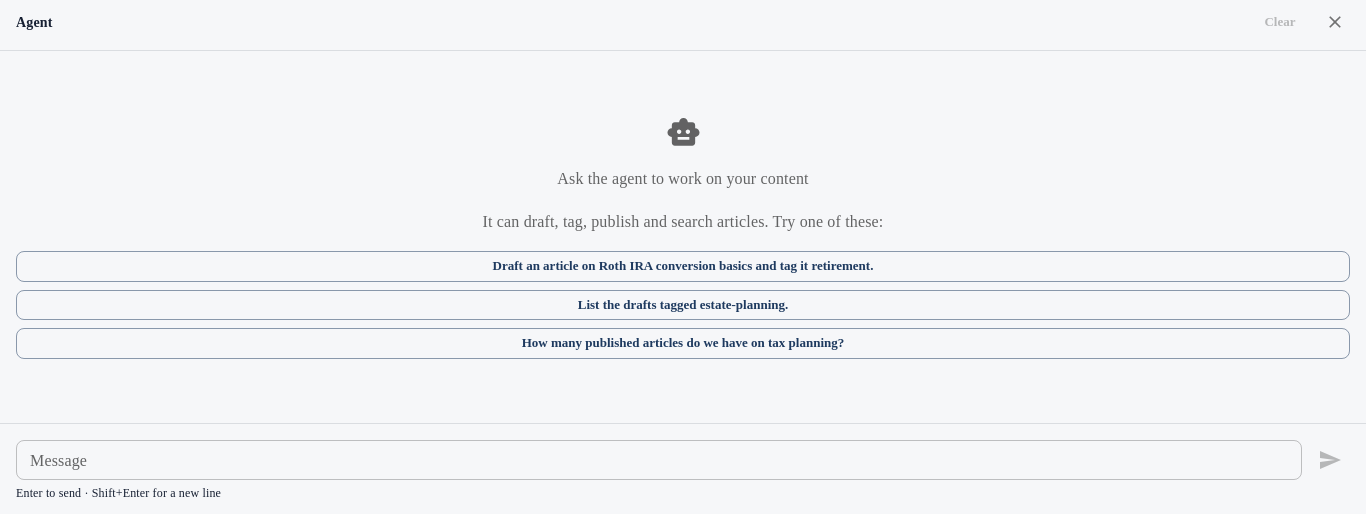
Test: AgentPanel › an `error` event renders an inline error alert
The width and height of the screenshot is (1366, 514).
In the text box labelled "Message": x=659, y=460 [30, 449, 1288, 472], type "Q"
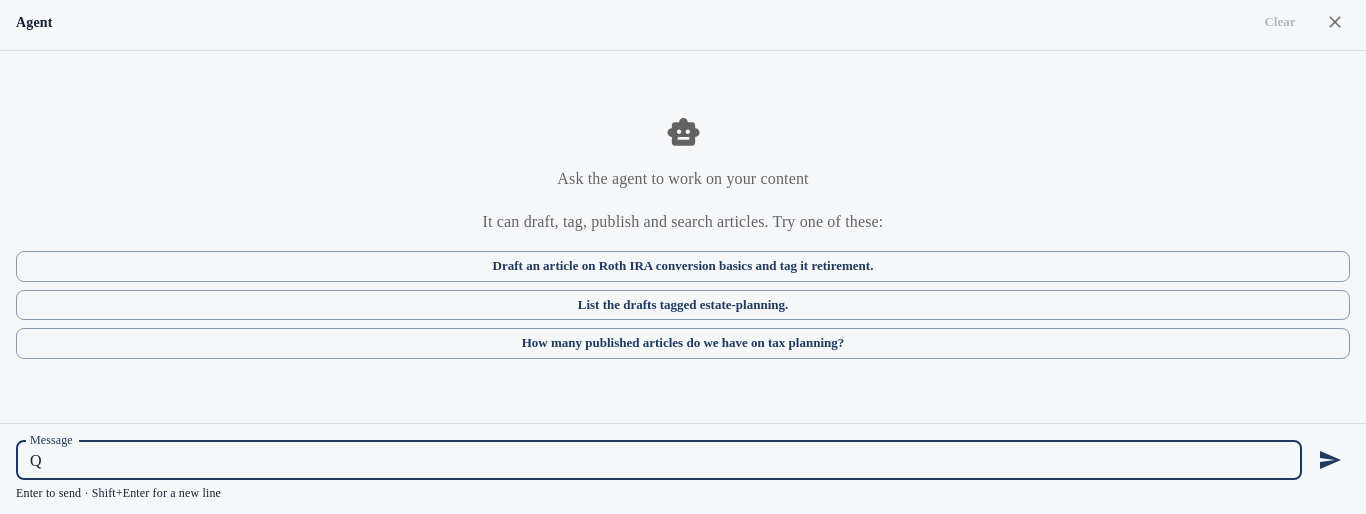
Click the button named "Send": x=1330, y=460 [1310, 440, 1350, 480]
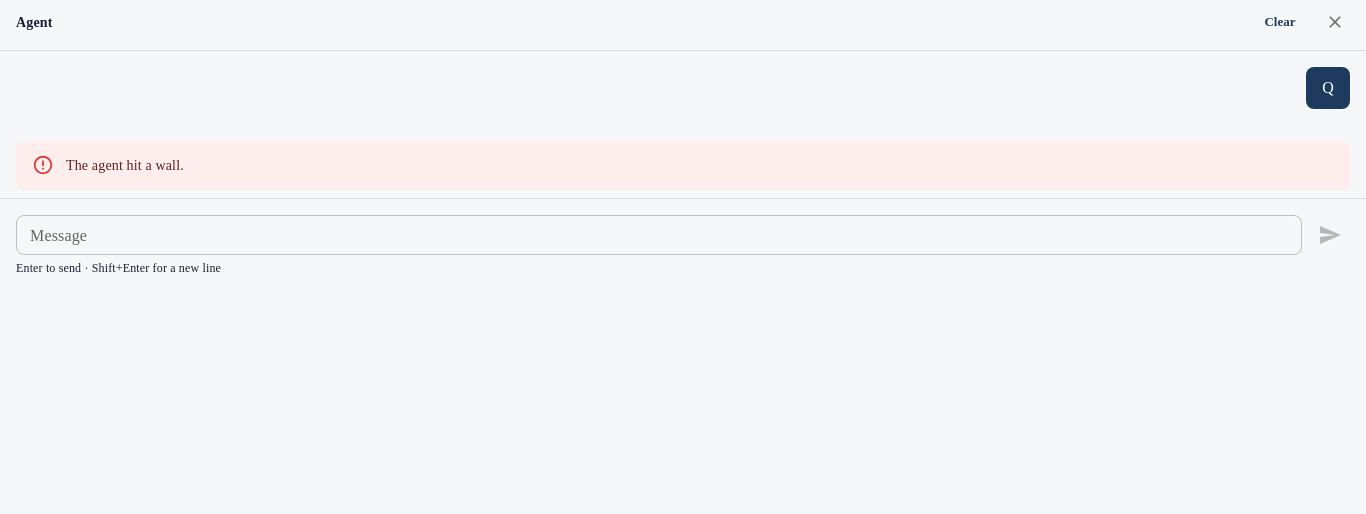
Now the message reads "The agent hit a wall.", box [66, 158, 184, 173]
